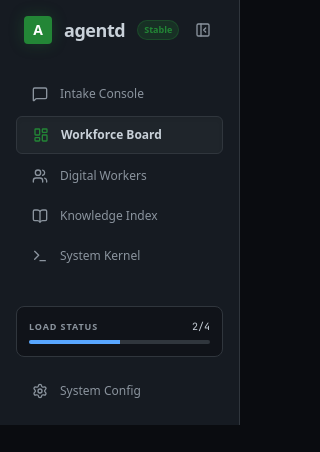
Sidebar › collapses to an icon rail whose items keep their names
This screenshot has width=320, height=452.
Click the button named "Collapse sidebar": (203, 30) [191,18,215,42]
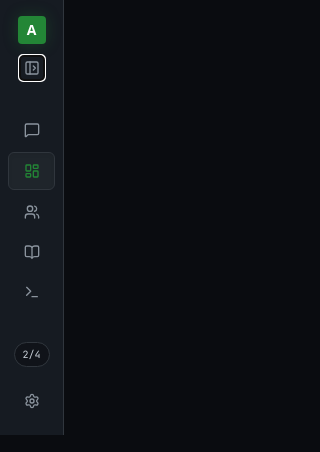
Now the text "Workforce Board" is gone
Now the button named "Expand sidebar" is collapsed, box [20,56,44,80]
